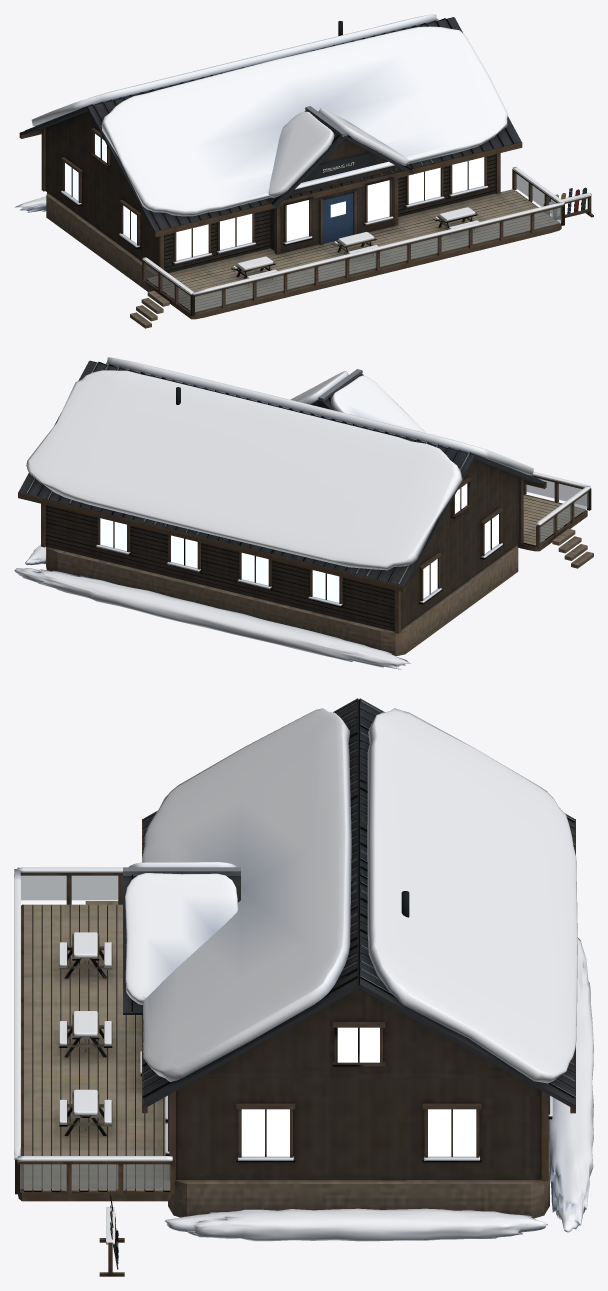
The model's file is lap_lodge_charcoal.glb.
The picture shows the model from 3 angles, top to bottom: view 1: azimuth 30°, elevation 25°; view 2: azimuth 150°, elevation 25°; view 3: azimuth 270°, elevation 25°; orthographic projection. The views are drawn at different scales.
Visible parts, largest first — view 1: lap_lodge_charcoal_snow, lap_lodge_charcoal, lap_lodge_charcoal_lit, lap_lodge_charcoal_glass; view 2: lap_lodge_charcoal_snow, lap_lodge_charcoal, lap_lodge_charcoal_lit, lap_lodge_charcoal_glass; view 3: lap_lodge_charcoal_snow, lap_lodge_charcoal, lap_lodge_charcoal_lit, lap_lodge_charcoal_glass.
Part boxes in pixels (x1,y1,x2,y2): lap_lodge_charcoal_snow: (15, 14, 590, 295); lap_lodge_charcoal: (19, 17, 593, 328); lap_lodge_charcoal_lit: (65, 134, 484, 260); lap_lodge_charcoal_glass: (145, 173, 561, 311); lap_lodge_charcoal_snow: (14, 357, 590, 669); lap_lodge_charcoal: (18, 360, 593, 656); lap_lodge_charcoal_lit: (100, 483, 498, 602); lap_lodge_charcoal_glass: (526, 478, 588, 542); lap_lodge_charcoal_snow: (14, 708, 593, 1244); lap_lodge_charcoal: (15, 698, 575, 1276); lap_lodge_charcoal_lit: (241, 1027, 476, 1156); lap_lodge_charcoal_glass: (20, 875, 170, 1188).
Bounding box in the file's own units: 26.92 × 9.59 × 18.68.
5 materials, 1 textured.
